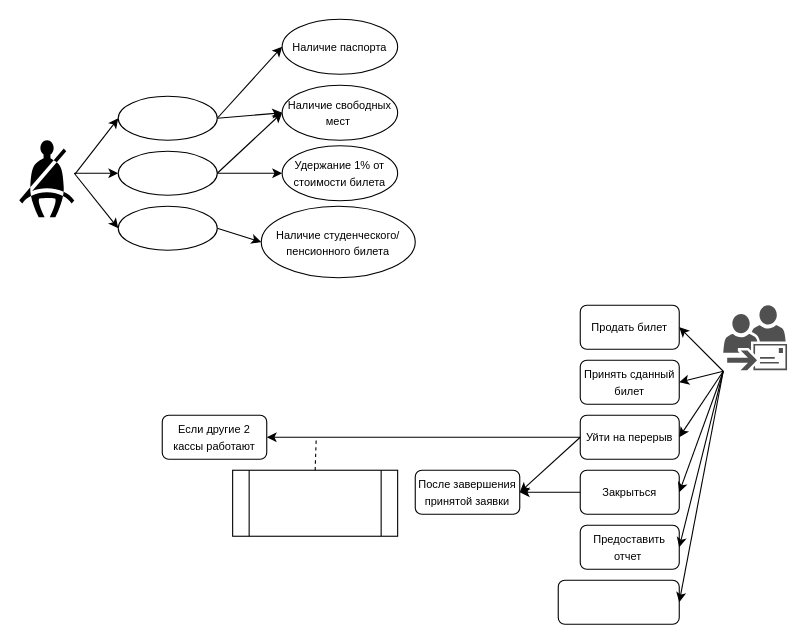
This 805x644 diagram has some shape labels left out. Here are the shapes that lost their labels. From the top down, the centre of each, then its label:
At pixel 167 117: "Купить билет".
At pixel 167 172: "Сдать билет".
At pixel 167 227: "Получить скидку".
At pixel 315 502: "Направить очередь в другие кассы без ее сохранения".
At pixel 618 601: "Сообщить о задержке отправления".
